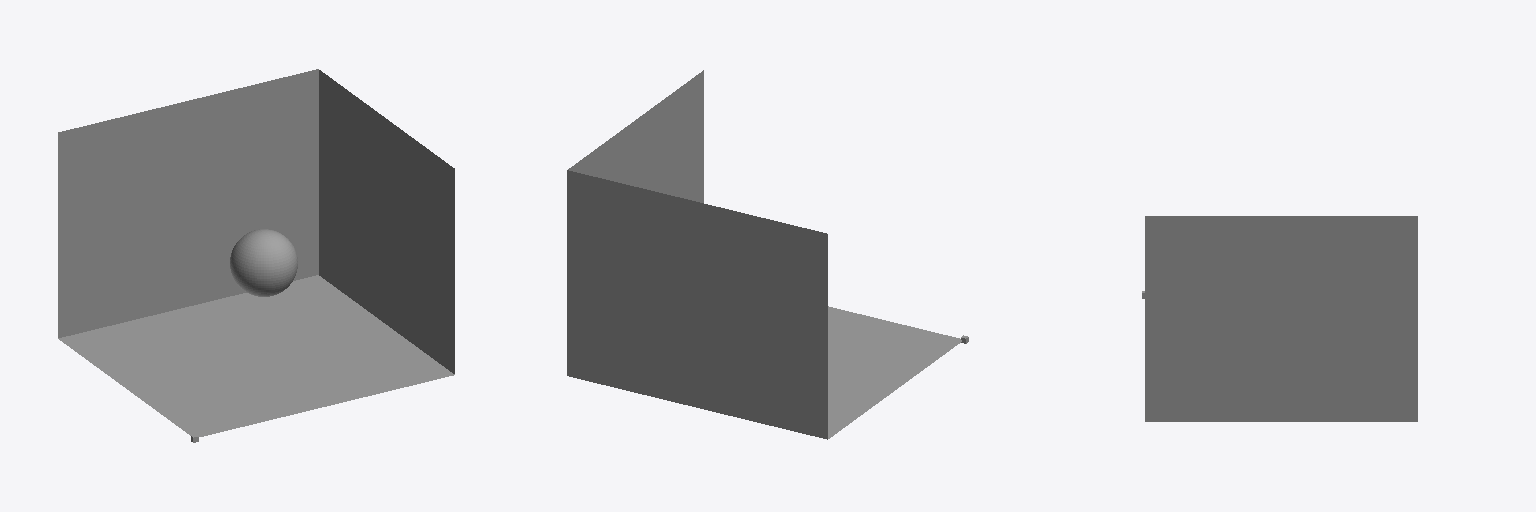
The picture shows the model from 3 angles: view 1: azimuth 30°, elevation 25°; view 2: azimuth 150°, elevation 25°; view 3: azimuth 270°, elevation 25°; orthographic projection.
Visible parts, largest first — view 1: SketchUp.001_ID11215, SketchUp.002_ID11228, SketchUp_ID2; view 2: SketchUp.002_ID11228, SketchUp.001_ID11215; view 3: SketchUp.001_ID11215.
Boxes of the visible parts, x1=… form: SketchUp.001_ID11215: x1=58, y1=70, x2=454, y2=436; SketchUp.002_ID11228: x1=58, y1=69, x2=318, y2=337; SketchUp_ID2: x1=230, y1=229, x2=297, y2=296; SketchUp.002_ID11228: x1=567, y1=170, x2=827, y2=439; SketchUp.001_ID11215: x1=568, y1=70, x2=961, y2=438; SketchUp.001_ID11215: x1=1145, y1=216, x2=1417, y2=421.
Size of the model in its own units: 104 by 78.65 by 94.4.